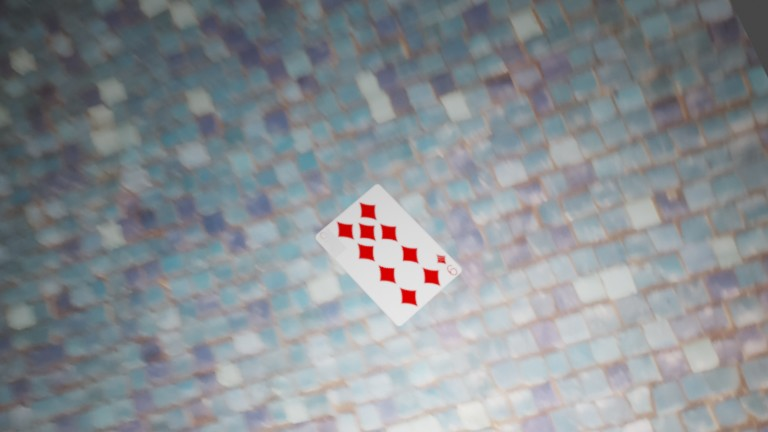9_of_diamonds: (126, 91, 139, 104), (172, 100, 184, 112)
